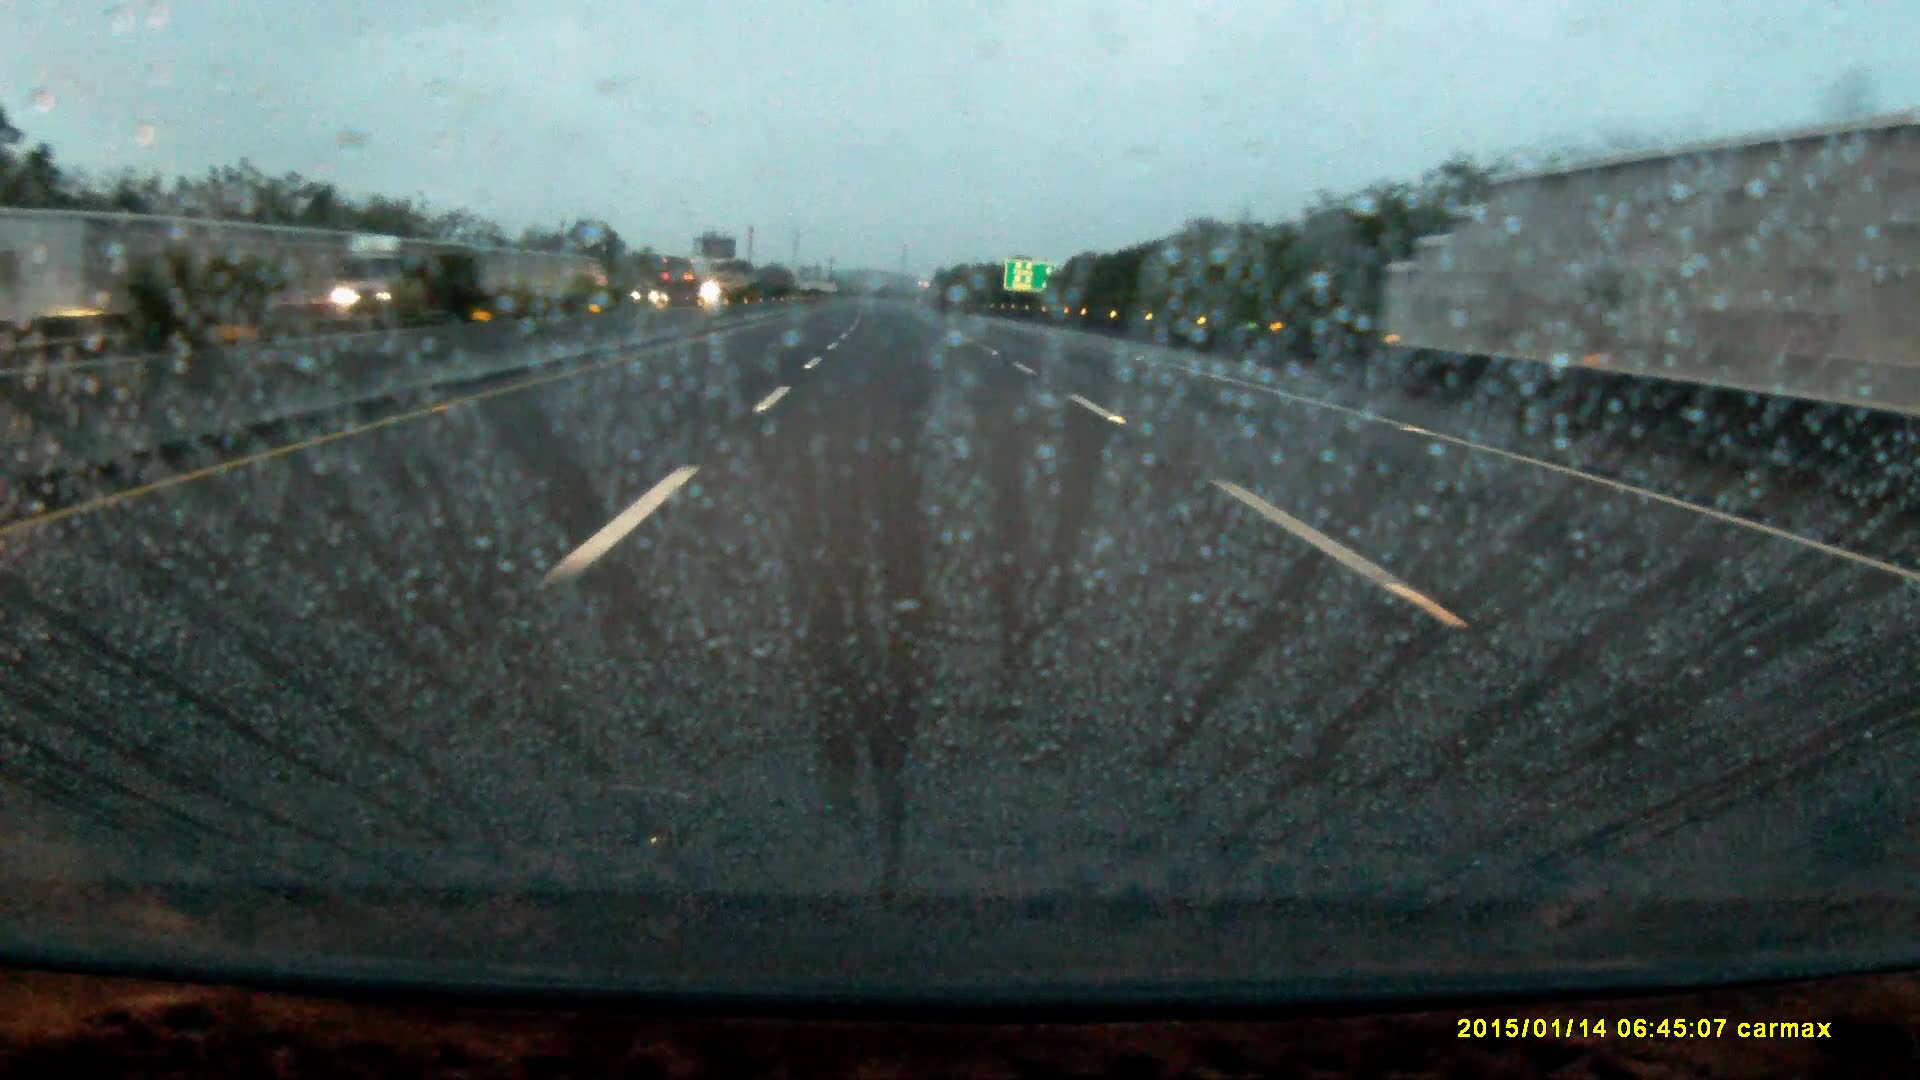vehicle: (331, 235, 451, 338), (658, 262, 712, 314)
